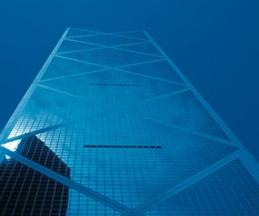building: (0, 24, 259, 216)
